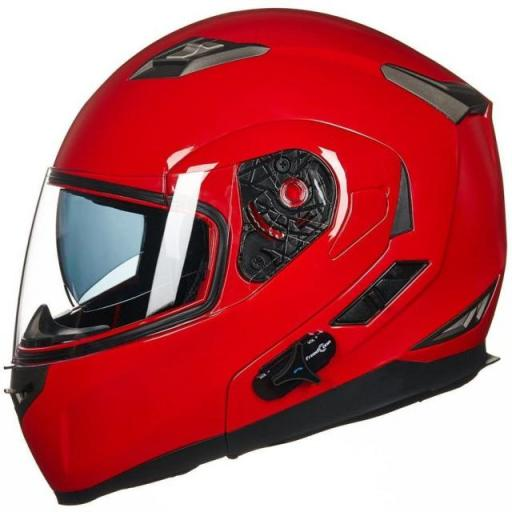Helmet: (12, 23, 512, 512)
